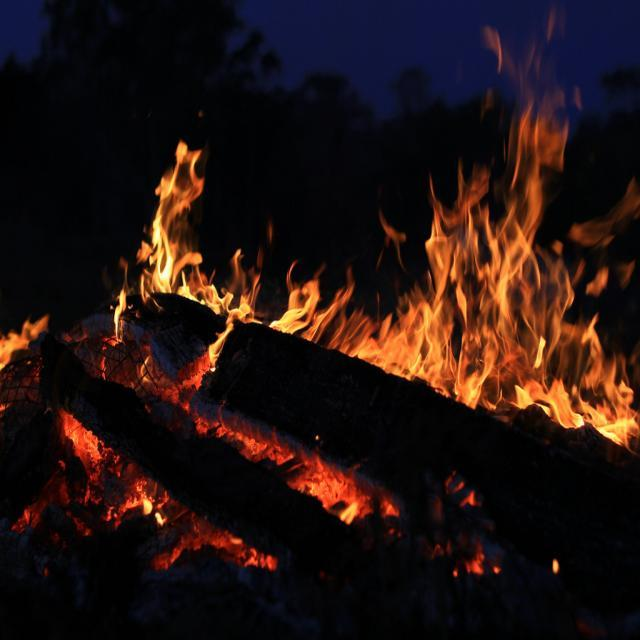Fire: (433, 195, 527, 394), (146, 150, 188, 289)
